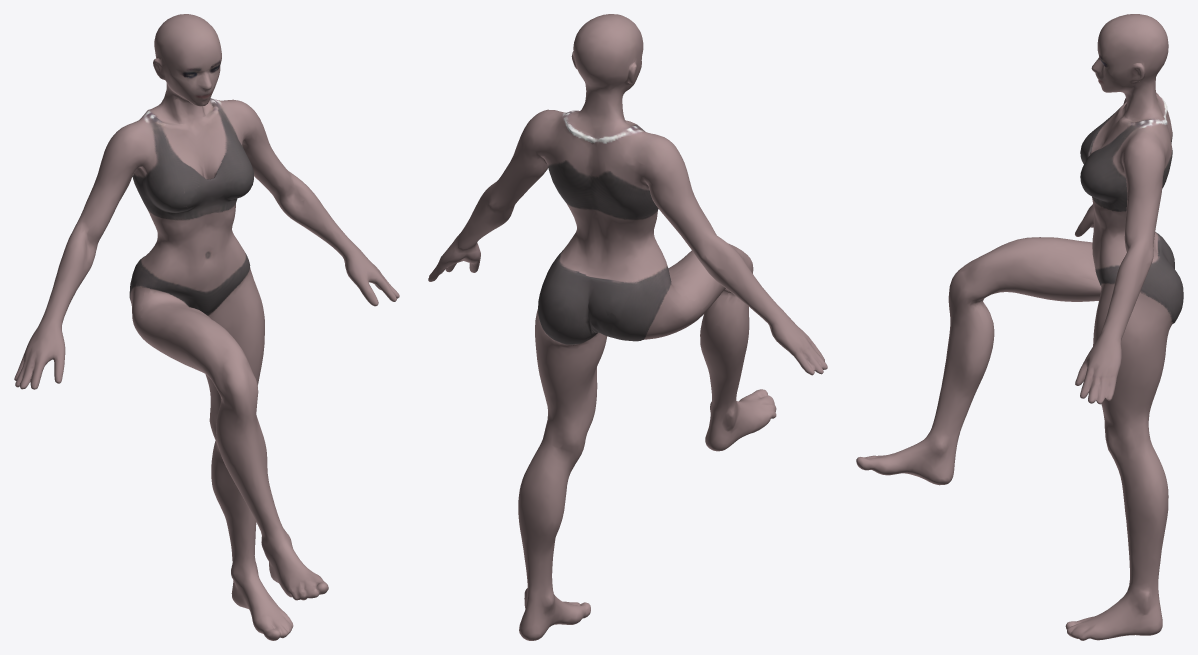
Rendered from 24-ThighL-75-child60-twist20-candidate.glb.
3 renders of one model, left to right at view 1: azimuth 30°, elevation 25°; view 2: azimuth 150°, elevation 25°; view 3: azimuth 270°, elevation 25°, orthographic. The views are drawn at different scales.
Visible parts, largest first — view 1: candidate; view 2: candidate; view 3: candidate.
Boxes of the visible parts, x1,y1,x2,y2 form: candidate: (14,14,399,640); candidate: (428,14,827,640); candidate: (856,14,1183,640).
Size of the model in its own units: 0.6509 by 1 by 0.5041.
1 material, 1 textured.
